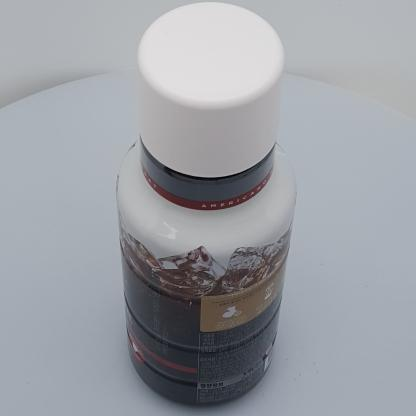--------------1-1L: (115, 1, 297, 408)
